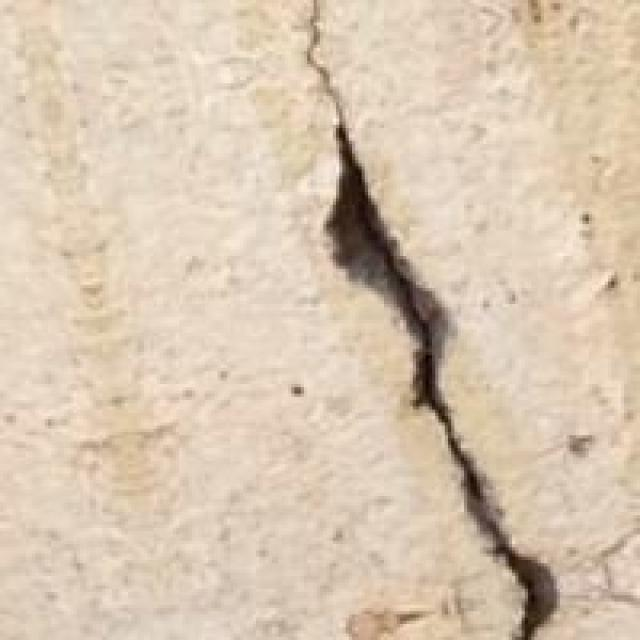Crack: (237, 0, 563, 637)
